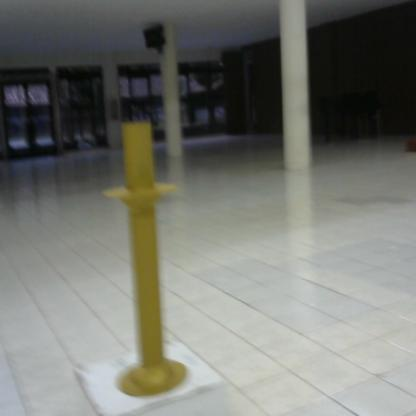pole: (98, 110, 197, 406)
